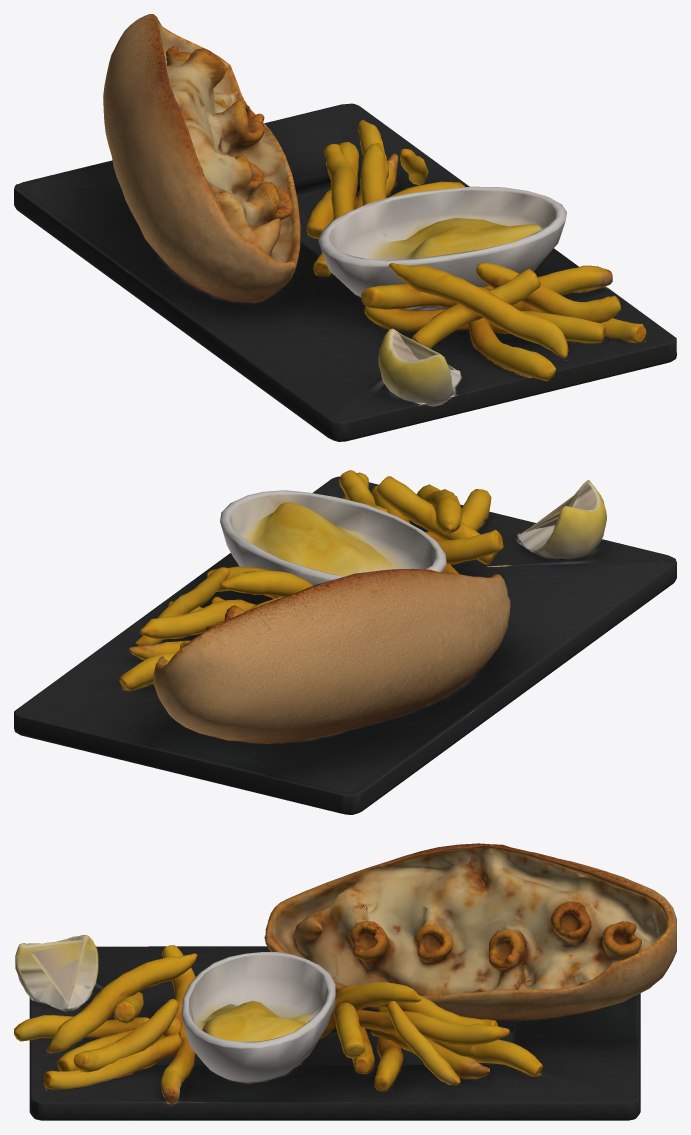
The model's file is cheesy bread plate 3d model.glb.
3 views of the same model, one above another, from view 1: azimuth 30°, elevation 25°; view 2: azimuth 150°, elevation 25°; view 3: azimuth 270°, elevation 25° (orthographic). The views are drawn at different scales.
Parts seen in each view (by area): view 1: tripo_node_d37af4c3-84c0-47a5-ad99-a54440184bb9; view 2: tripo_node_d37af4c3-84c0-47a5-ad99-a54440184bb9; view 3: tripo_node_d37af4c3-84c0-47a5-ad99-a54440184bb9.
Part boxes in pixels (x1=…): tripo_node_d37af4c3-84c0-47a5-ad99-a54440184bb9: x1=14, y1=14, x2=676, y2=441; tripo_node_d37af4c3-84c0-47a5-ad99-a54440184bb9: x1=14, y1=470, x2=676, y2=814; tripo_node_d37af4c3-84c0-47a5-ad99-a54440184bb9: x1=14, y1=843, x2=676, y2=1120.
Size of the model in its own units: 0.5684 by 0.2637 by 0.998.
Materials: 1 (1 with a texture image).
